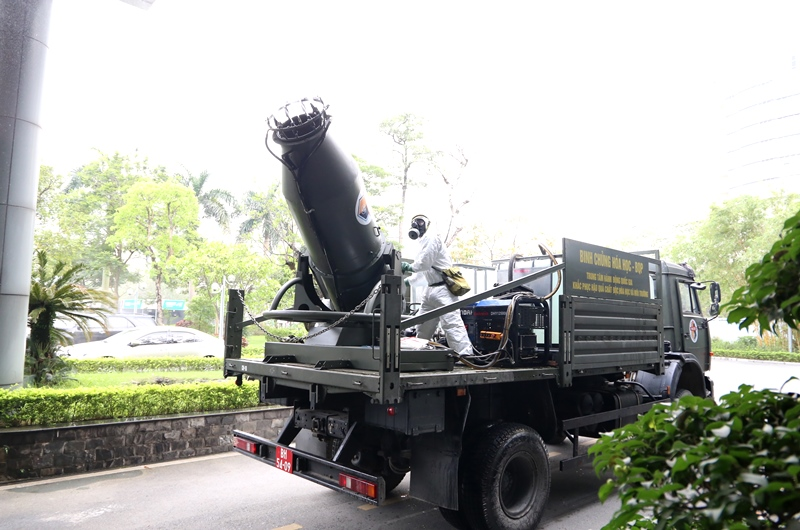plate: (272, 444, 296, 476)
